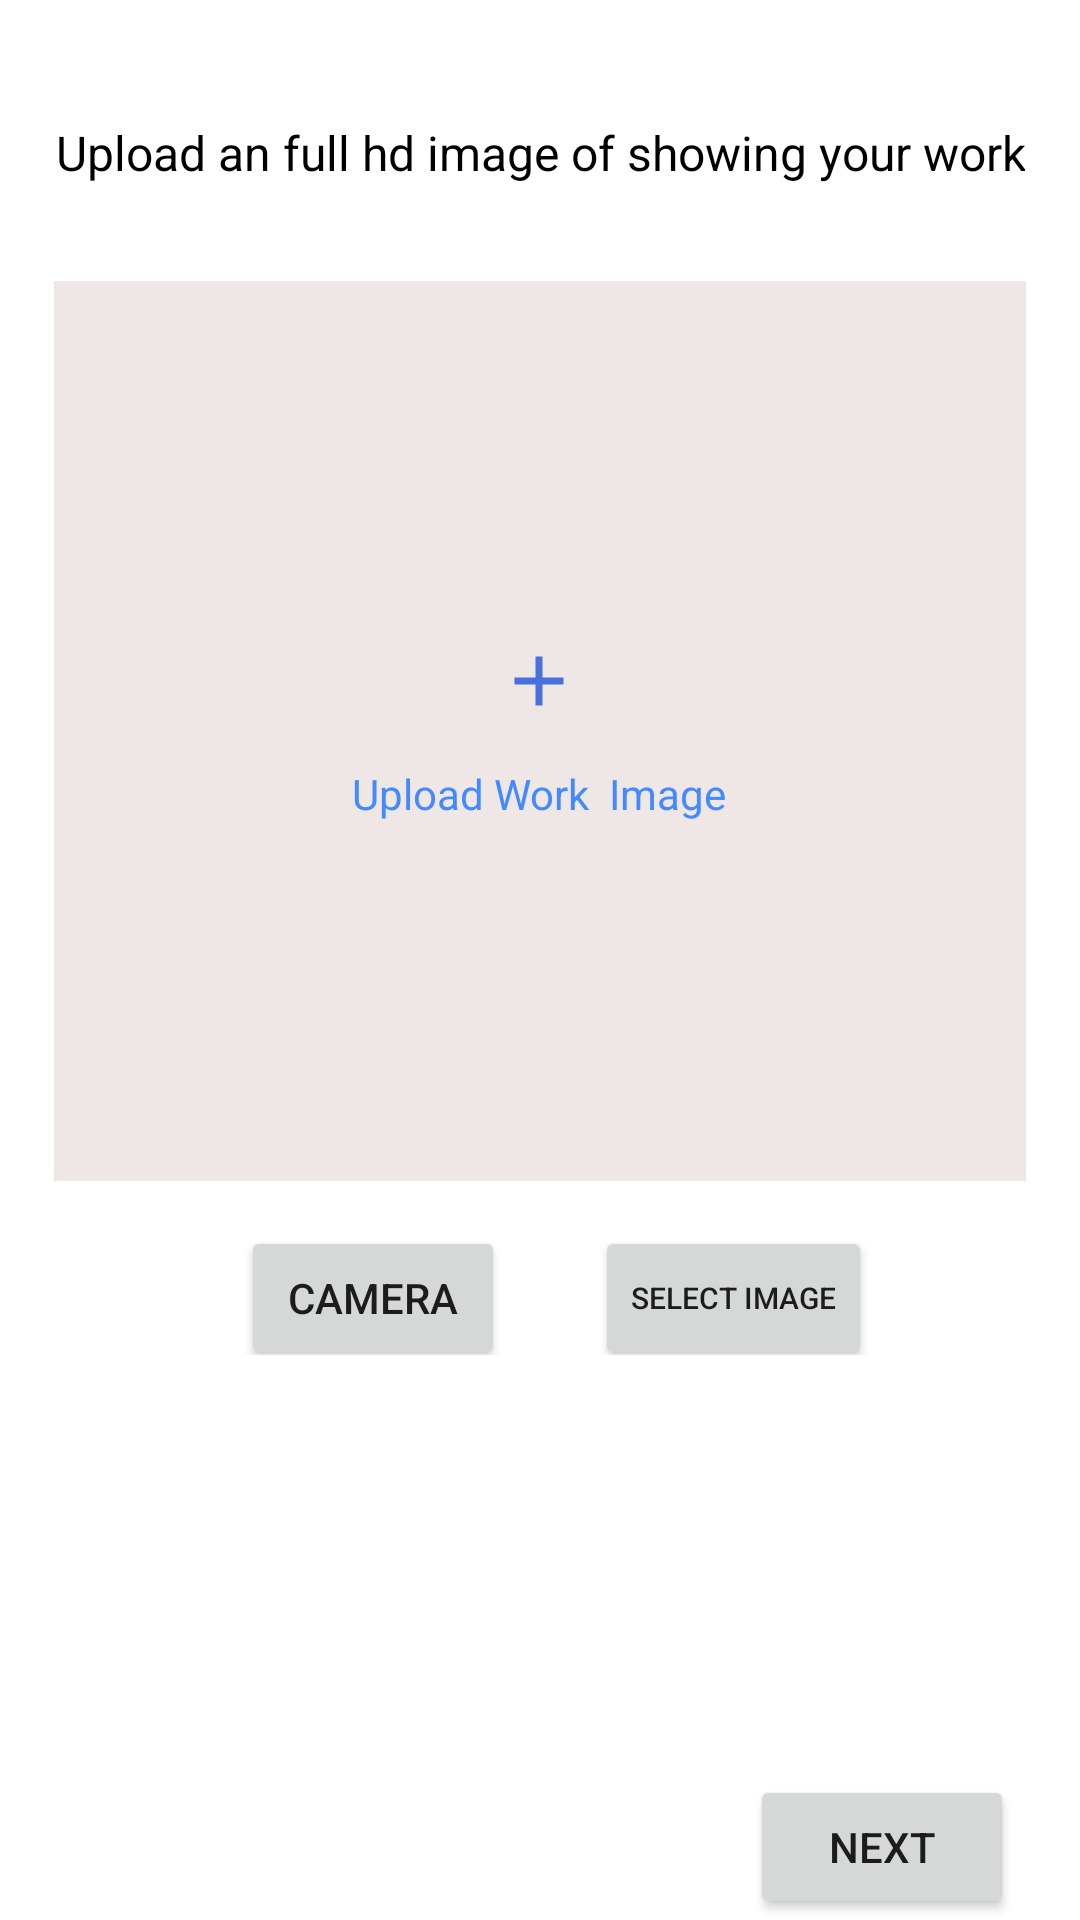

Named icons in this screenshot (1080×1920) and their bounding boxes, (x1, y1, x2, y2):
add: (514, 656, 564, 706)
